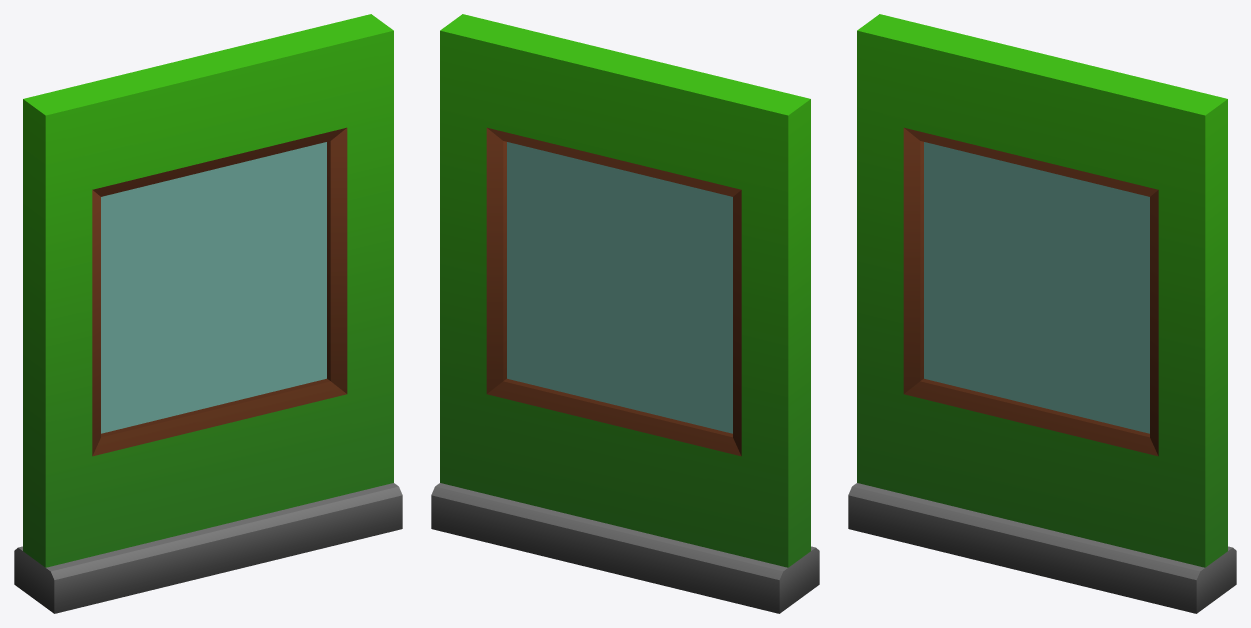
The model's file is Wall_02_D.fbx.
The picture shows the model from 3 angles, left to right: view 1: azimuth 30°, elevation 25°; view 2: azimuth 150°, elevation 25°; view 3: azimuth 330°, elevation 25°; orthographic projection.
Parts seen in each view (by area): view 1: Wall_02; view 2: Wall_02; view 3: Wall_02.
Boxes of the visible parts, left/top/right/bottom form: Wall_02: left=14, top=14, right=402, bottom=613; Wall_02: left=431, top=14, right=819, bottom=613; Wall_02: left=848, top=14, right=1236, bottom=613.
Size of the model in its own units: 200 by 270 by 40.
